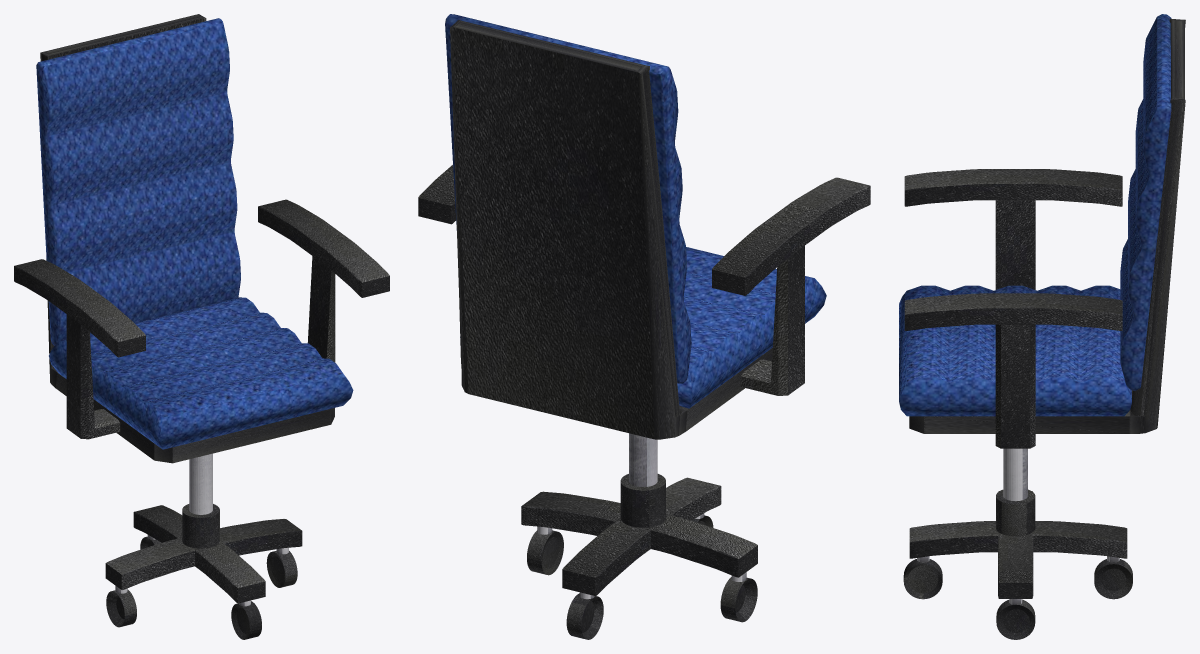
The model's file is computer_chair.glb.
3 views of the same model, side by side, from view 1: azimuth 30°, elevation 25°; view 2: azimuth 150°, elevation 25°; view 3: azimuth 270°, elevation 25° (orthographic). The views are drawn at different scales.
Visible parts, largest first — view 1: Cube.002, Cube, Cube.001, Cube.005, Cube.006, Cube.008, Cube.007, Cube.004, Cube.003, Cylinder.001, Cylinder, Cylinder.008 (+2 smaller); view 2: Cube.001, Cube, Cube.002, Cube.006, Cube.008, Cube.007, Cube.004, Cylinder.001, Cube.005, Cylinder, Cylinder.009, Cylinder.002 (+1 smaller); view 3: Cube, Cube.002, Cube.001, Cube.006, Cube.005, Cube.007, Cube.003, Cube.004, Cube.008, Cylinder.001, Cylinder, Cylinder.008 (+2 smaller).
Boxes of the visible parts, x1,y1,x2,y2 form: Cube.002: (36,18,240,345); Cube: (49,297,353,449); Cube.001: (40,14,334,463); Cube.005: (258,199,389,297); Cube.006: (14,259,145,357); Cube.008: (105,519,302,589); Cube.007: (133,505,265,603); Cube.004: (66,314,120,439); Cube.003: (307,256,335,362); Cylinder.001: (182,504,219,548); Cylinder: (189,453,212,514); Cylinder.008: (231,601,261,639); Cube.001: (450,20,772,439); Cube: (460,247,826,408); Cube.002: (445,14,691,383); Cube.006: (712,177,870,295); Cube.008: (521,491,757,577); Cube.007: (562,477,721,595); Cube.004: (740,246,804,395); Cylinder.001: (620,474,665,527); Cube.005: (418,165,456,224); Cylinder: (629,433,657,486); Cylinder.009: (566,593,603,639); Cylinder.002: (720,577,757,622); Cube: (899,285,1131,416); Cube.002: (1120,14,1171,390); Cube.001: (909,18,1185,433); Cube.006: (904,169,1122,206); Cube.005: (904,293,1122,330); Cube.007: (909,521,1127,558); Cube.003: (995,324,1035,448); Cube.004: (995,200,1035,289); Cube.008: (998,491,1033,598); Cylinder.001: (996,489,1035,536); Cylinder: (1003,448,1027,501); Cylinder.008: (903,559,942,599).
Size of the model in its own units: 3.03 by 5.44 by 2.63.
19 materials, 19 textured.
